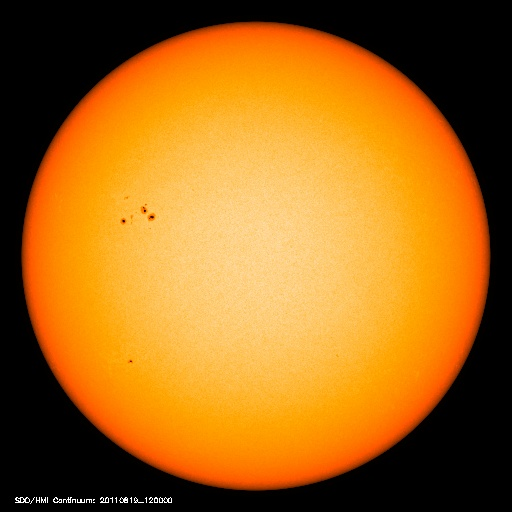sunspot: (110, 189, 161, 230), (113, 348, 148, 375)
